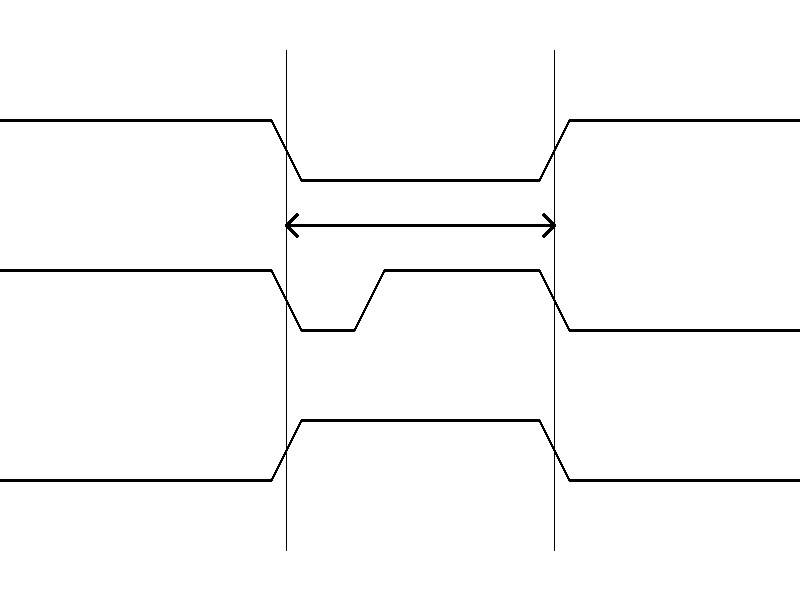double_arrow: (286, 210, 554, 240)
